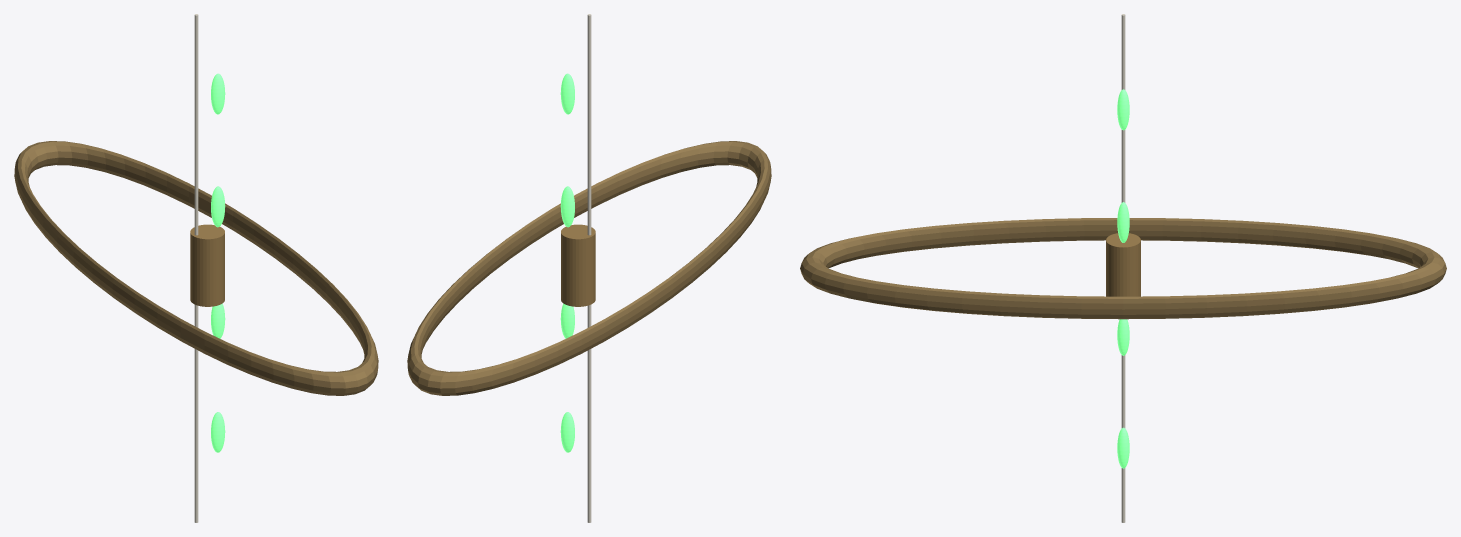
The model's file is elven_bow.glb.
The picture shows the model from 3 angles, left to right: view 1: azimuth 30°, elevation 25°; view 2: azimuth 150°, elevation 25°; view 3: azimuth 270°, elevation 25°; orthographic projection.
Parts seen in each view (by area): view 1: Torus, Cylinder.001, Cylinder, Sphere, Sphere.002, Sphere.003, Sphere.001; view 2: Torus, Cylinder.001, Cylinder, Sphere, Sphere.002, Sphere.003, Sphere.001; view 3: Torus, Cylinder.001, Cylinder.
Boxes of the visible parts, left/top/right/bottom form: Torus: left=14, top=141, right=378, bottom=395; Cylinder.001: left=190, top=224, right=224, bottom=306; Cylinder: left=194, top=14, right=198, bottom=522; Sphere: left=211, top=412, right=225, bottom=452; Sphere.002: left=211, top=186, right=225, bottom=227; Sphere.003: left=211, top=73, right=225, bottom=114; Sphere.001: left=211, top=303, right=225, bottom=338; Torus: left=407, top=141, right=771, bottom=395; Cylinder.001: left=561, top=224, right=595, bottom=306; Cylinder: left=587, top=14, right=591, bottom=522; Sphere: left=560, top=412, right=574, bottom=452; Sphere.002: left=560, top=186, right=574, bottom=227; Sphere.003: left=560, top=73, right=574, bottom=114; Sphere.001: left=560, top=303, right=574, bottom=338; Torus: left=800, top=218, right=1446, bottom=319; Cylinder.001: left=1106, top=233, right=1140, bottom=296; Cylinder: left=1121, top=14, right=1125, bottom=522.
Size of the model in its own units: 0.3 by 0.8654 by 1.
